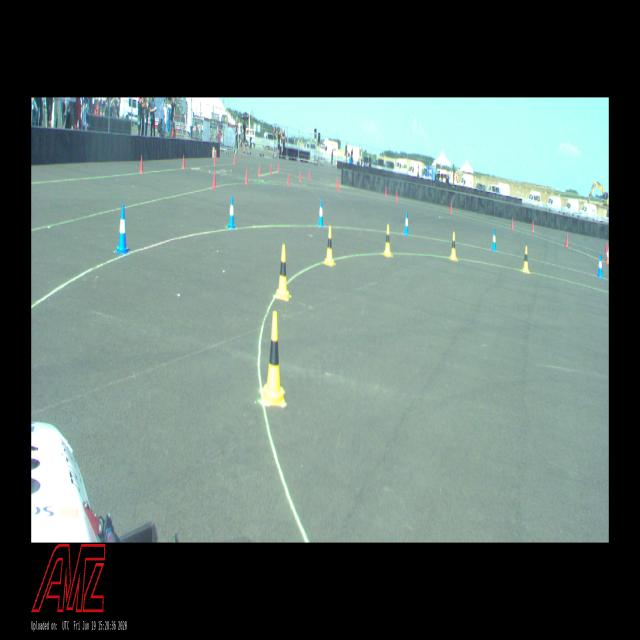blue_cone: (115, 204, 130, 254), (227, 196, 236, 228), (318, 200, 324, 226), (597, 255, 603, 278), (404, 212, 409, 235), (492, 229, 496, 251)
orange_cone: (605, 246, 609, 264)
unknown_cone: (139, 156, 144, 172), (212, 170, 216, 189), (245, 169, 248, 184), (182, 154, 185, 168), (287, 172, 290, 186), (565, 234, 568, 247), (511, 218, 514, 230), (308, 170, 311, 181), (233, 153, 236, 164), (605, 241, 607, 254), (450, 200, 452, 213), (385, 185, 387, 198), (270, 162, 272, 175), (532, 220, 534, 232), (396, 190, 398, 202), (338, 180, 340, 192), (258, 164, 260, 176), (214, 154, 216, 166), (299, 171, 301, 182), (336, 177, 338, 188), (278, 162, 280, 172)
yellow_cone: (262, 312, 285, 406), (275, 245, 290, 300), (324, 226, 334, 265), (384, 224, 392, 257), (522, 246, 530, 273), (450, 232, 457, 260)
